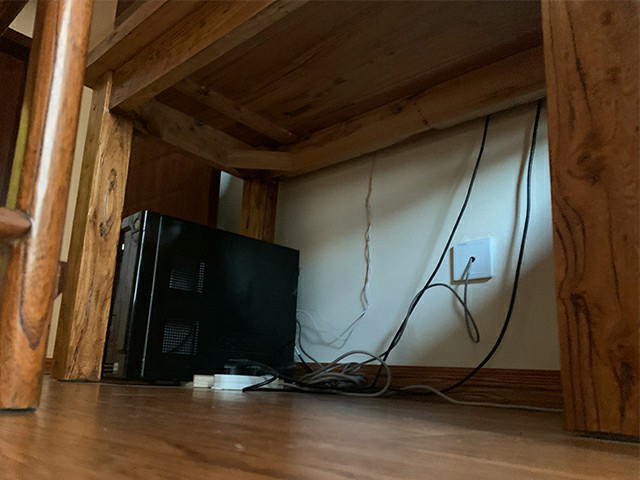table: (46, 1, 640, 441)
wire: (193, 100, 561, 410)
